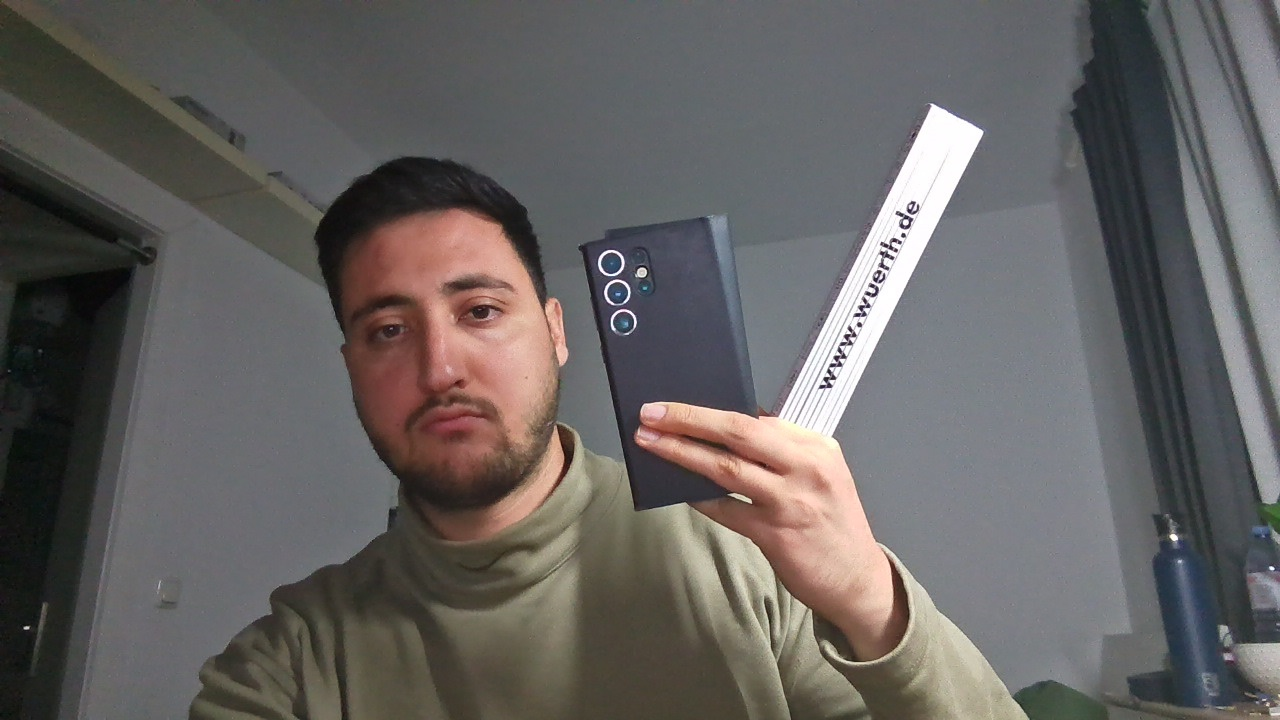Handy: (576, 182, 770, 459)
Wasserflasche: (1135, 501, 1238, 711)
Zollstock: (804, 92, 989, 439)
me: (274, 149, 578, 521)
